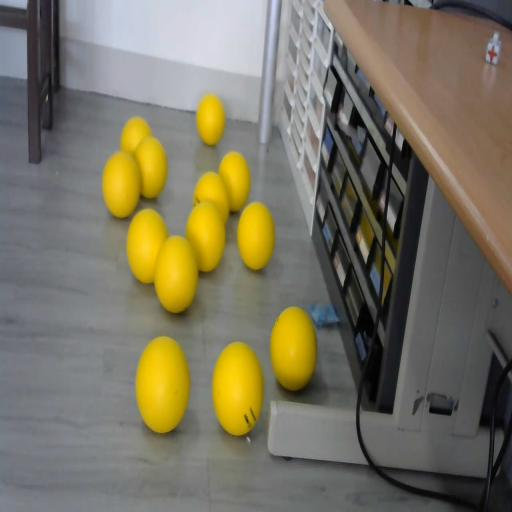FUEL: (134, 334, 190, 434), (212, 340, 264, 434), (270, 306, 318, 390), (126, 207, 168, 284), (186, 200, 226, 272), (236, 201, 276, 271), (102, 150, 141, 218), (134, 135, 168, 199), (219, 152, 251, 211), (196, 94, 225, 145)
